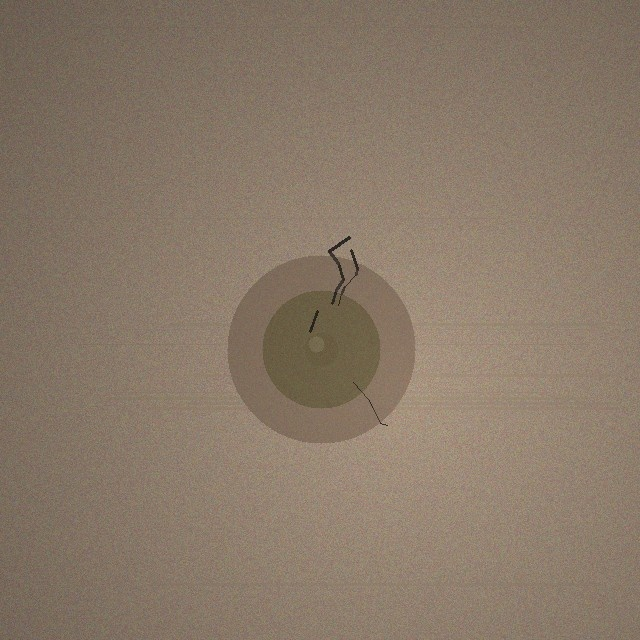crack: (227, 255, 415, 443)
